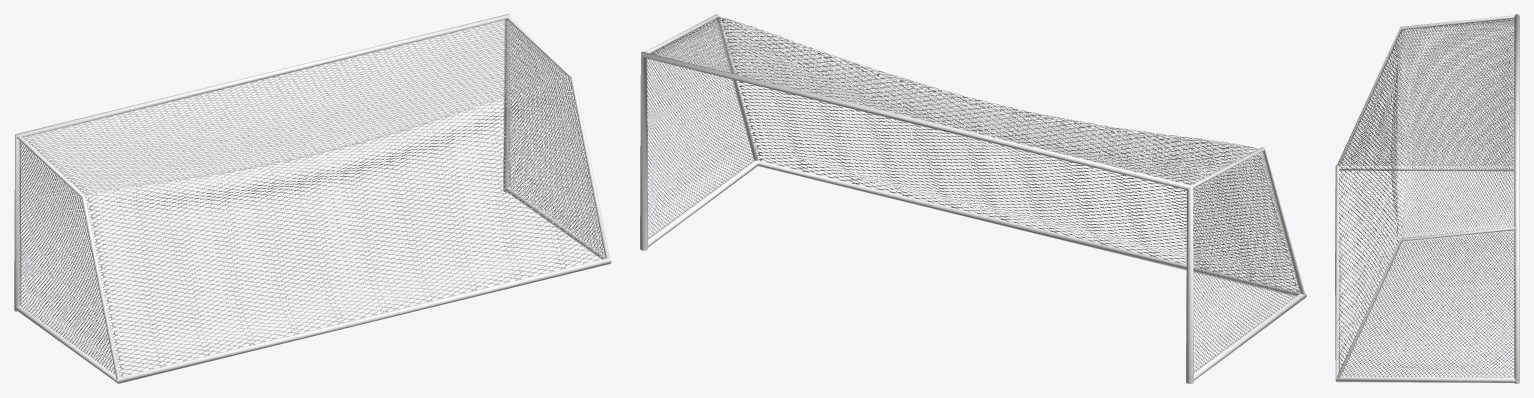
Rendered from cage-opt.glb.
The picture shows the model from 3 angles, left to right: view 1: azimuth 30°, elevation 25°; view 2: azimuth 150°, elevation 25°; view 3: azimuth 270°, elevation 25°; orthographic projection. The views are drawn at different scales.
Visible parts, largest first — view 1: Rectangular Goalpost; view 2: Rectangular Goalpost; view 3: Rectangular Goalpost.
Part boxes in pixels (x1,y1,x2,y2): Rectangular Goalpost: [14, 14, 611, 383]; Rectangular Goalpost: [640, 14, 1306, 383]; Rectangular Goalpost: [1335, 14, 1519, 383].
Size of the model in its own units: 7.35 by 2.49 by 2.68.
1 material, 1 textured.
